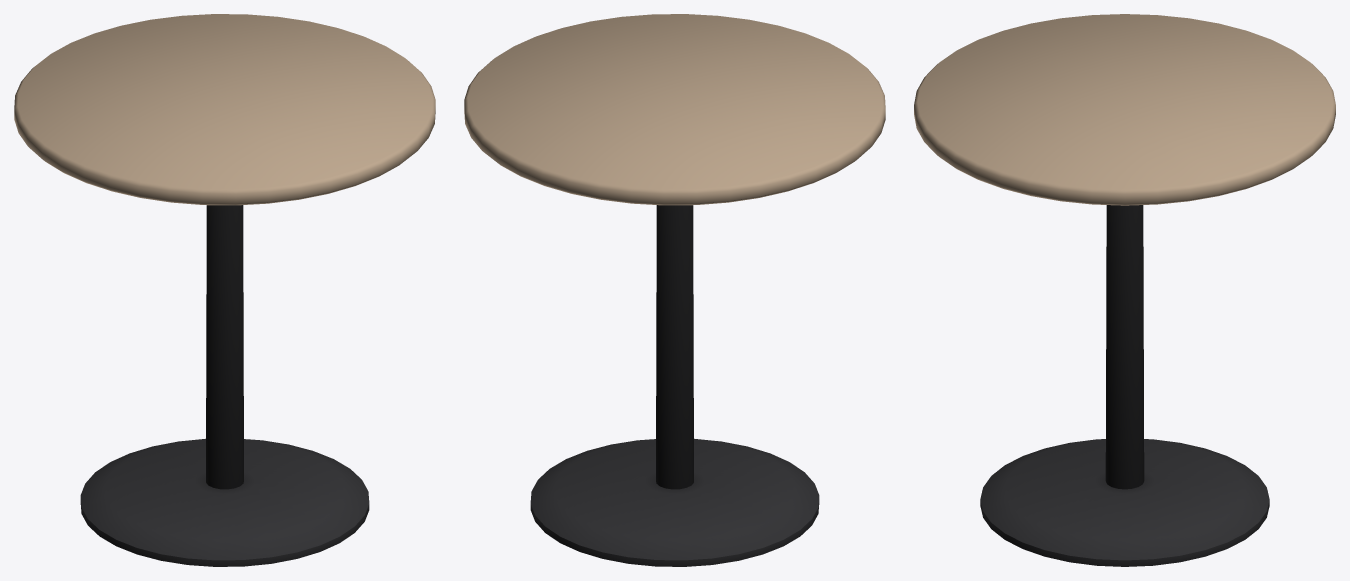
File: cafe.glb
3 views of the same model, side by side, from view 1: azimuth 30°, elevation 25°; view 2: azimuth 150°, elevation 25°; view 3: azimuth 270°, elevation 25° (orthographic).
Visible parts, largest first — view 1: p_cafe; view 2: p_cafe; view 3: p_cafe.
Boxes of the visible parts, left/top/right/bottom form: p_cafe: left=14, top=14, right=435, bottom=566; p_cafe: left=464, top=14, right=885, bottom=566; p_cafe: left=914, top=14, right=1335, bottom=566.
Bounding box in the file's own units: 0.7 × 0.74 × 0.7.
